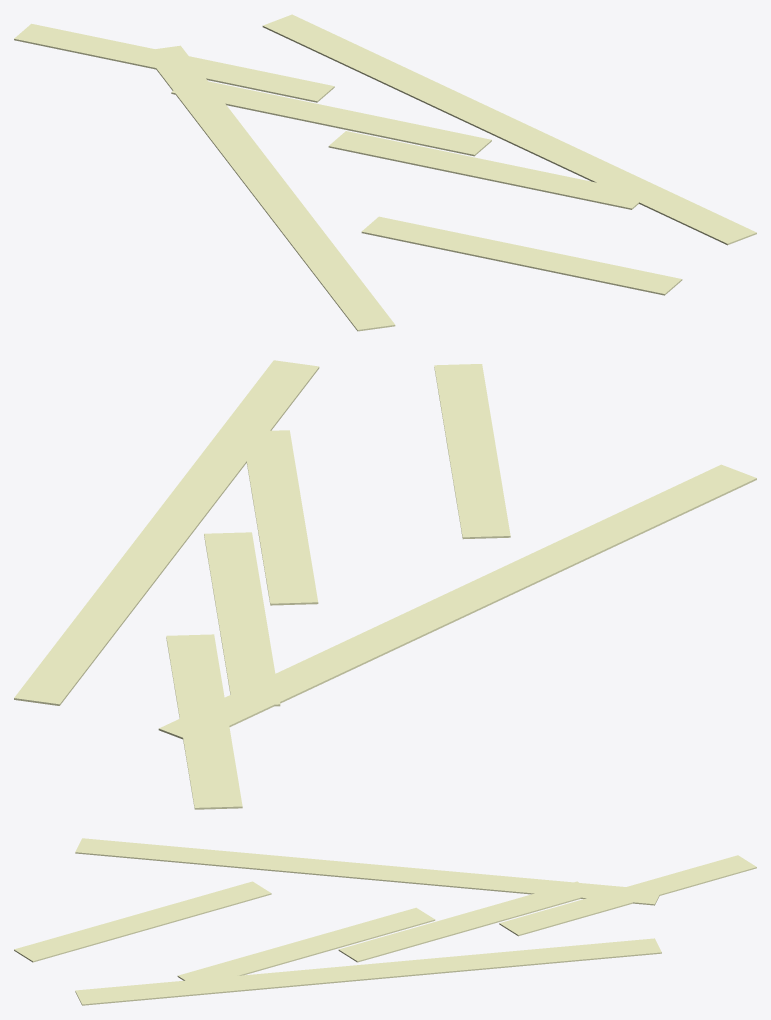
Rendered from marking_hatched_island_white.glb.
3 renders of one model, top to bottom at view 1: azimuth 30°, elevation 25°; view 2: azimuth 150°, elevation 25°; view 3: azimuth 270°, elevation 25°, orthographic. The views are drawn at different scales.
Visible parts, largest first — view 1: boundary_right, boundary_left, hatch_3, hatch_1, hatch_2, hatch_0; view 2: boundary_right, boundary_left, hatch_0, hatch_3, hatch_1, hatch_2; view 3: boundary_right, boundary_left, hatch_3, hatch_2, hatch_1, hatch_0.
Part boxes in pixels (bbox=[...]): boundary_right: bbox=[262, 14, 756, 245]; boundary_left: bbox=[143, 45, 395, 331]; hatch_3: bbox=[361, 216, 682, 295]; hatch_1: bbox=[171, 77, 491, 156]; hatch_2: bbox=[328, 131, 640, 209]; hatch_0: bbox=[14, 23, 334, 102]; boundary_right: bbox=[14, 360, 319, 705]; boundary_left: bbox=[158, 464, 756, 741]; hatch_0: bbox=[166, 634, 242, 809]; hatch_3: bbox=[434, 364, 510, 539]; hatch_1: bbox=[204, 532, 280, 706]; hatch_2: bbox=[242, 430, 318, 605]; boundary_right: bbox=[75, 938, 661, 1005]; boundary_left: bbox=[75, 838, 661, 905]; hatch_3: bbox=[14, 881, 271, 962]; hatch_2: bbox=[177, 907, 435, 987]; hatch_1: bbox=[338, 881, 595, 962]; hatch_0: bbox=[499, 855, 756, 936].
Bounding box in the file's own units: 1.39 × 0.005 × 2.63.
